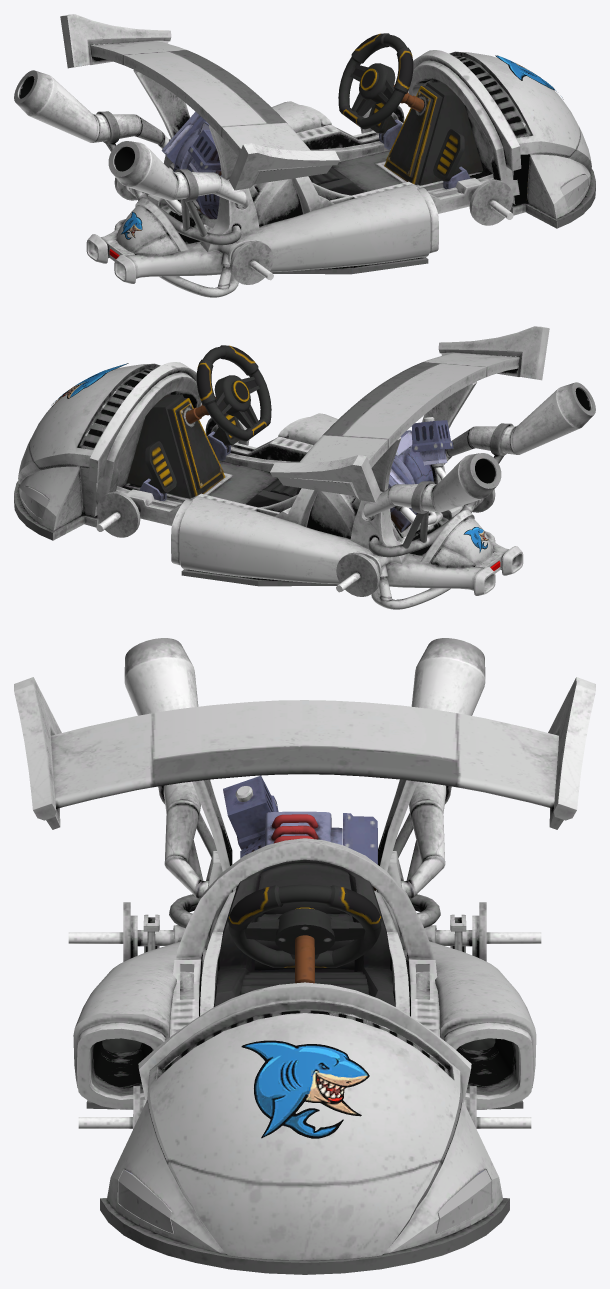
File: deepseadrivingfix1.fbx
3 views of the same model, one above another, from view 1: azimuth 30°, elevation 25°; view 2: azimuth 150°, elevation 25°; view 3: azimuth 270°, elevation 25° (orthographic). The views are drawn at different scales.
Parts seen in each view (by area): view 1: KartTeamCrash_Lod1_SEModelMesh.002, KartTeamCrash_Lod1_SEModelMesh, KartTeamCrash_Lod1_SEModelMesh.003, KartTeamCrash_Lod1_SEModelMesh.004, KartTeamCrash_Lod1_SEModelMesh.005, KartTeamCrash_Lod1_SEModelMesh.007, KartTeamCrash_Lod1_SEModelMesh.001; view 2: KartTeamCrash_Lod1_SEModelMesh.002, KartTeamCrash_Lod1_SEModelMesh, KartTeamCrash_Lod1_SEModelMesh.003, KartTeamCrash_Lod1_SEModelMesh.004, KartTeamCrash_Lod1_SEModelMesh.005, KartTeamCrash_Lod1_SEModelMesh.007, KartTeamCrash_Lod1_SEModelMesh.001; view 3: KartTeamCrash_Lod1_SEModelMesh.002, KartTeamCrash_Lod1_SEModelMesh, KartTeamCrash_Lod1_SEModelMesh.003, KartTeamCrash_Lod1_SEModelMesh.004, KartTeamCrash_Lod1_SEModelMesh.007, KartTeamCrash_Lod1_SEModelMesh.005, KartTeamCrash_Lod1_SEModelMesh.001.
Part boxes in pixels (x1=…): KartTeamCrash_Lod1_SEModelMesh.002: x1=90, y1=40, x2=591, y2=297; KartTeamCrash_Lod1_SEModelMesh: x1=96, y1=33, x2=595, y2=284; KartTeamCrash_Lod1_SEModelMesh.003: x1=60, y1=14, x2=521, y2=283; KartTeamCrash_Lod1_SEModelMesh.004: x1=14, y1=70, x2=513, y2=245; KartTeamCrash_Lod1_SEModelMesh.005: x1=161, y1=112, x2=221, y2=218; KartTeamCrash_Lod1_SEModelMesh.007: x1=121, y1=55, x2=563, y2=239; KartTeamCrash_Lod1_SEModelMesh.001: x1=560, y1=175, x2=587, y2=206; KartTeamCrash_Lod1_SEModelMesh.002: x1=18, y1=352, x2=519, y2=609; KartTeamCrash_Lod1_SEModelMesh: x1=14, y1=345, x2=501, y2=596; KartTeamCrash_Lod1_SEModelMesh.003: x1=88, y1=326, x2=549, y2=595; KartTeamCrash_Lod1_SEModelMesh.004: x1=96, y1=382, x2=595, y2=557; KartTeamCrash_Lod1_SEModelMesh.005: x1=388, y1=420, x2=453, y2=532; KartTeamCrash_Lod1_SEModelMesh.007: x1=51, y1=363, x2=488, y2=552; KartTeamCrash_Lod1_SEModelMesh.001: x1=22, y1=487, x2=49, y2=518; KartTeamCrash_Lod1_SEModelMesh.002: x1=46, y1=700, x2=563, y2=1260; KartTeamCrash_Lod1_SEModelMesh: x1=68, y1=747, x2=541, y2=1274; KartTeamCrash_Lod1_SEModelMesh.003: x1=14, y1=677, x2=595, y2=1109; KartTeamCrash_Lod1_SEModelMesh.004: x1=78, y1=638, x2=531, y2=1129; KartTeamCrash_Lod1_SEModelMesh.007: x1=241, y1=1040, x2=369, y2=1138; KartTeamCrash_Lod1_SEModelMesh.005: x1=223, y1=775, x2=377, y2=890; KartTeamCrash_Lod1_SEModelMesh.001: x1=118, y1=1169, x2=491, y2=1233.
Bounding box in the file's own units: 212 × 73.93 × 135.
